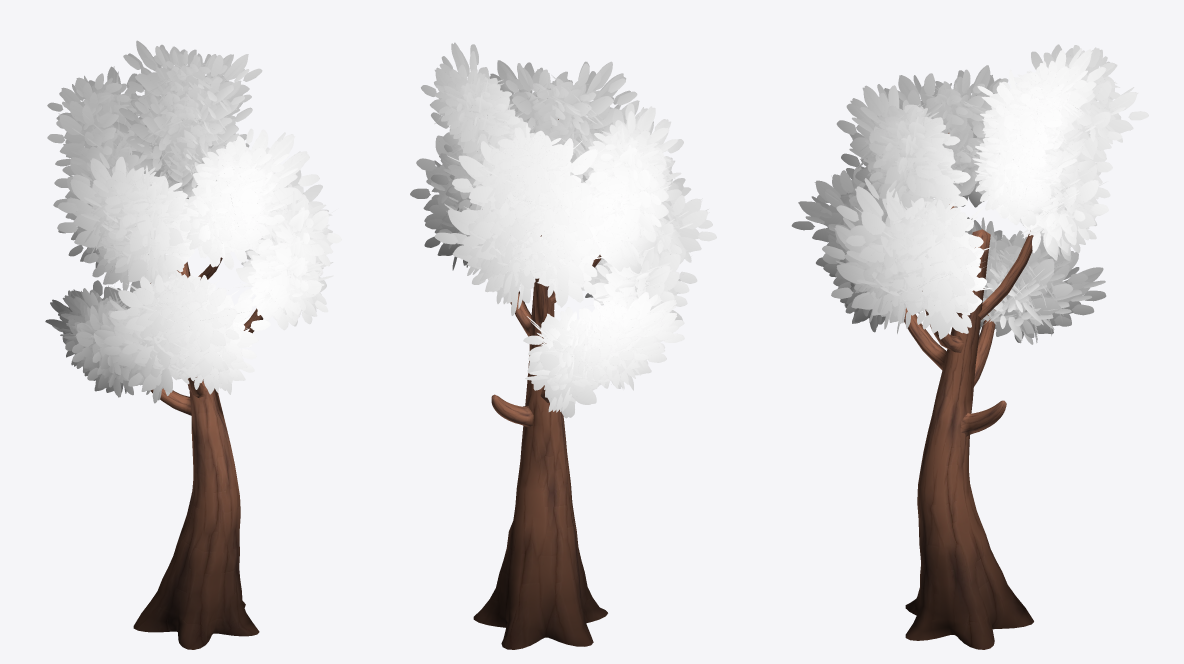
File: CommonTree_5.glb
3 renders of one model, left to right at view 1: azimuth 30°, elevation 25°; view 2: azimuth 150°, elevation 25°; view 3: azimuth 270°, elevation 25°, orthographic. The views are drawn at different scales.
Visible parts, largest first — view 1: CommonTree_5; view 2: CommonTree_5; view 3: CommonTree_5.
Part boxes in pixels (bbox=[...]): CommonTree_5: bbox=[45, 40, 341, 649]; CommonTree_5: bbox=[410, 42, 716, 649]; CommonTree_5: bbox=[791, 44, 1148, 649].
Size of what is drawn, in the model's own units: 3.67 by 7.01 by 4.22.
2 materials, 2 textured.
